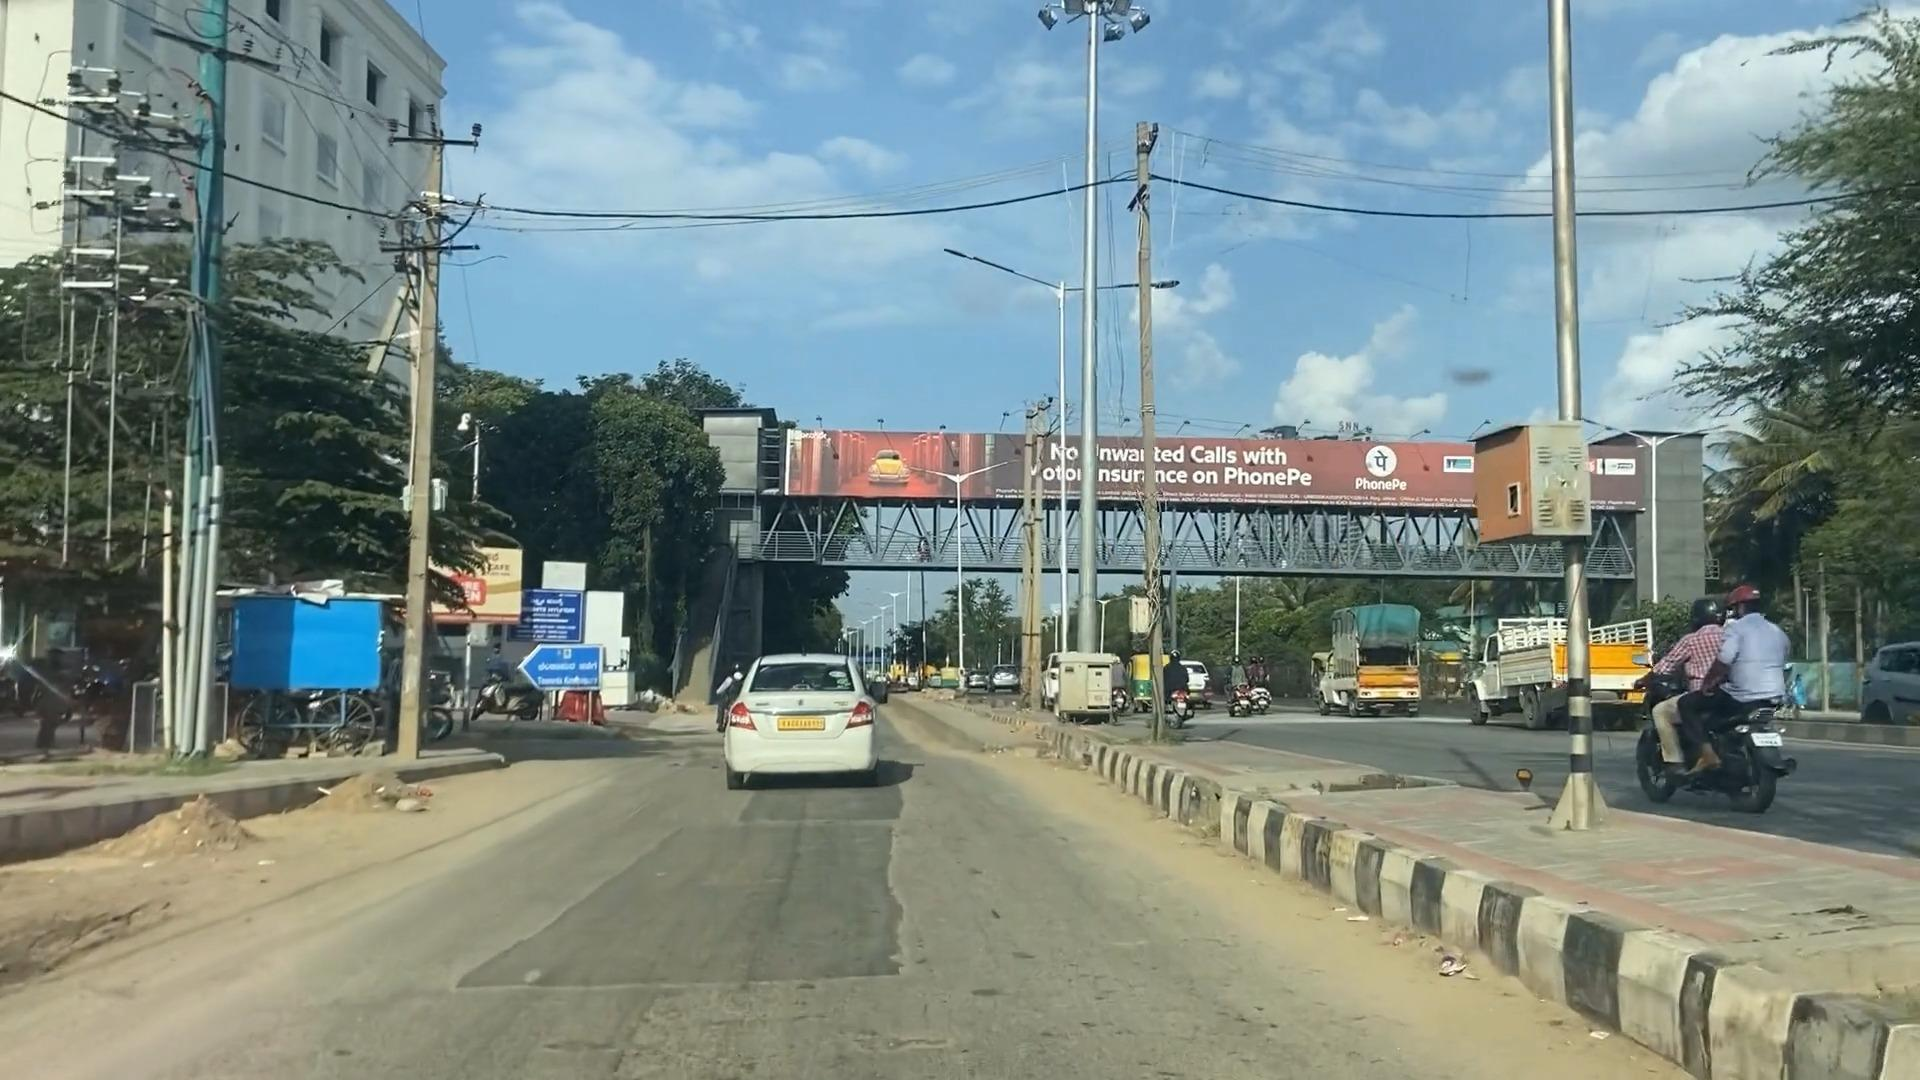LMV: (719, 644, 885, 800)
UnsurfacedRoad: (550, 853, 924, 942)
